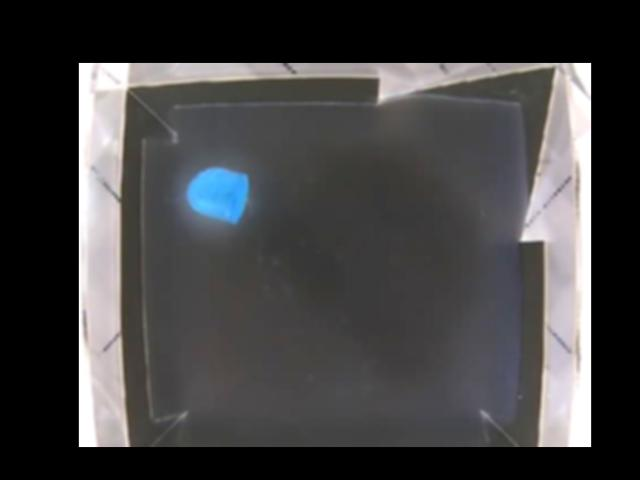Carrot: (186, 166, 250, 221)
